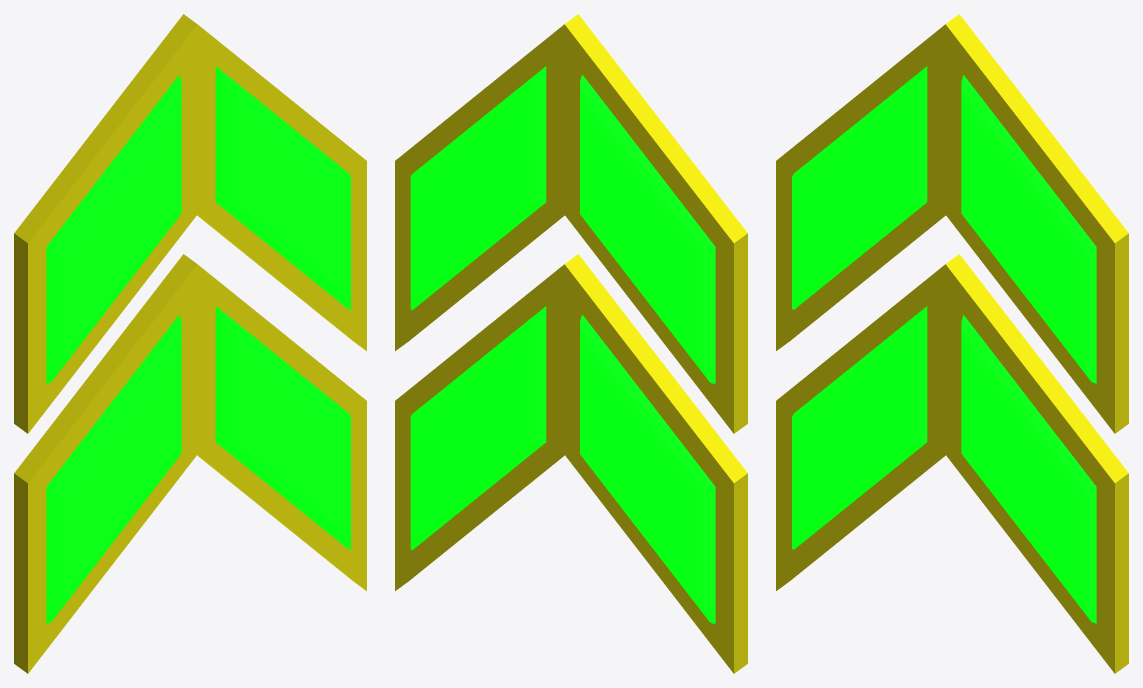
File: track1Booster.glb
3 views of the same model, side by side, from view 1: azimuth 30°, elevation 25°; view 2: azimuth 150°, elevation 25°; view 3: azimuth 330°, elevation 25° (orthographic).
Parts seen in each view (by area): view 1: Speed Boost; view 2: Speed Boost; view 3: Speed Boost.
Part boxes in pixels (x1=…): Speed Boost: x1=14, y1=14, x2=366, y2=673; Speed Boost: x1=395, y1=14, x2=747, y2=673; Speed Boost: x1=776, y1=14, x2=1128, y2=673.
Bounding box in the file's own units: 0.2531 × 0.4344 × 0.0365.
